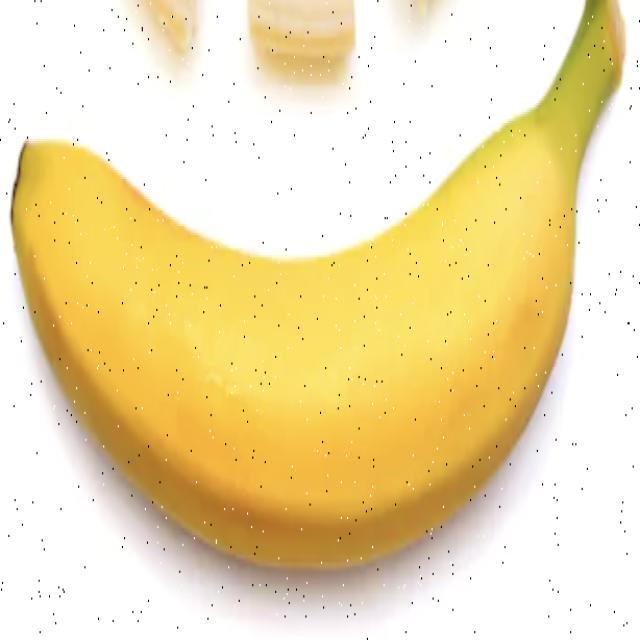Banana: (9, 0, 626, 571)
